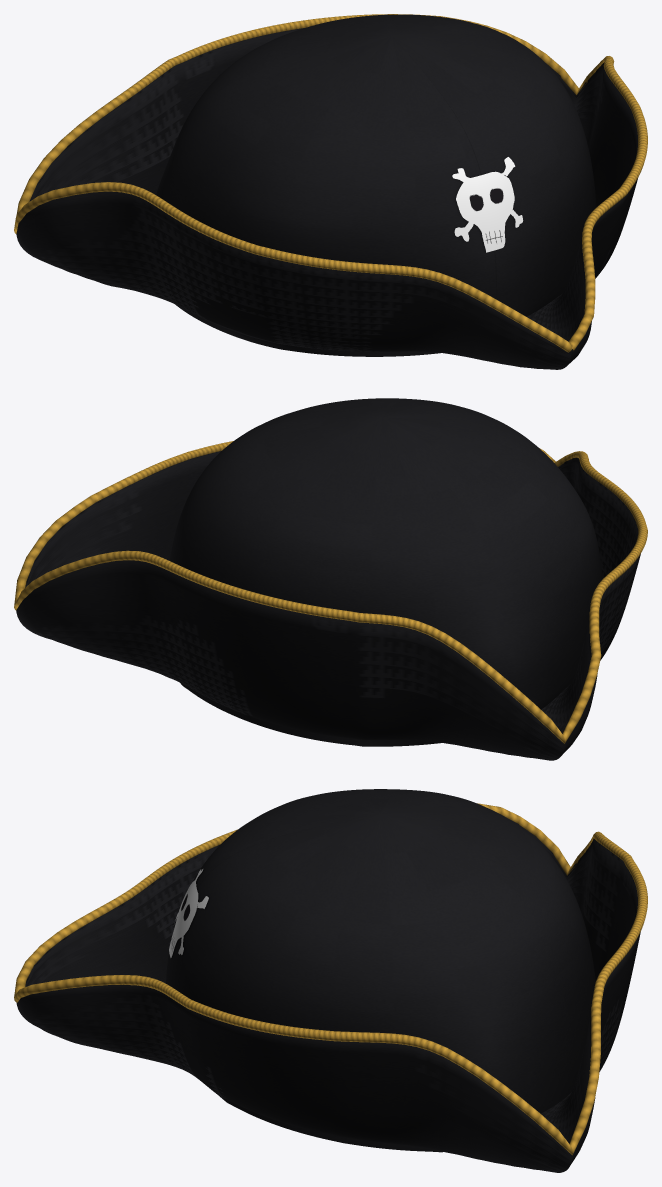
Rendered from hat_tricorn_male_hi.glb.
3 views of the same model, one above another, from view 1: azimuth 30°, elevation 25°; view 2: azimuth 150°, elevation 25°; view 3: azimuth 270°, elevation 25° (orthographic). The views are drawn at different scales.
Parts seen in each view (by area): view 1: hat_tricorn_hi; view 2: hat_tricorn_hi; view 3: hat_tricorn_hi.
Boxes of the visible parts, box(x1,y1,x2,y2) form: hat_tricorn_hi: box(14, 14, 647, 369); hat_tricorn_hi: box(14, 398, 647, 760); hat_tricorn_hi: box(14, 789, 647, 1172).
Bounding box in the file's own units: 0.8434 × 0.3434 × 0.7869.
1 material, 1 textured.
